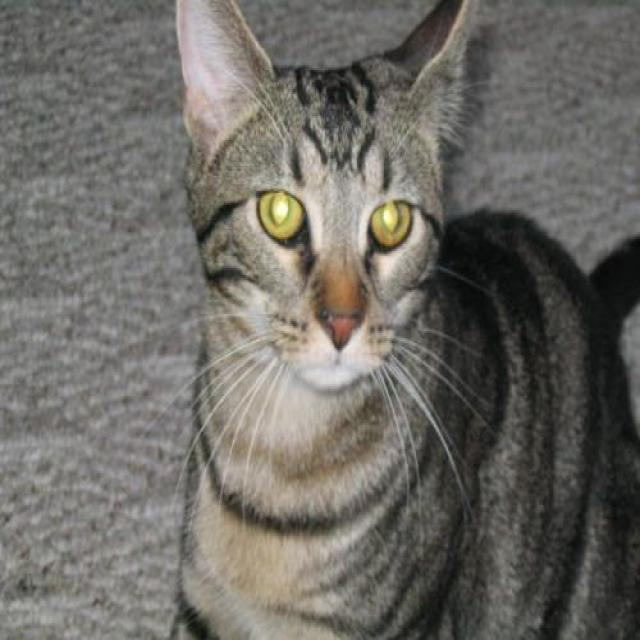Cats: (165, 0, 638, 638)
